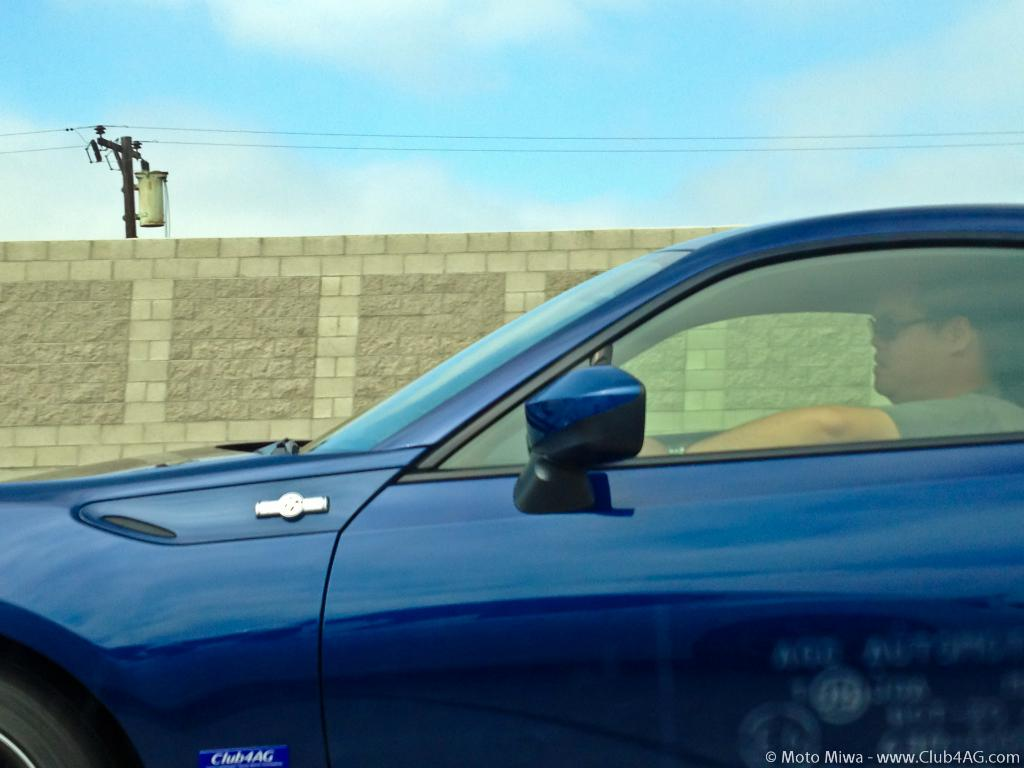Car: (0, 190, 1021, 766)
